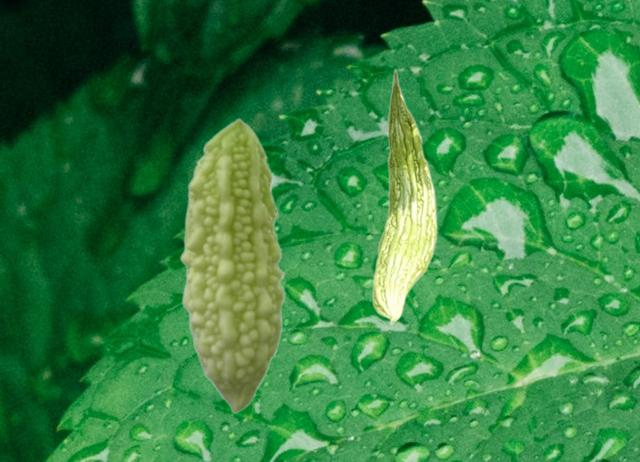ampalaya: (179, 117, 287, 416), (370, 67, 439, 328)
